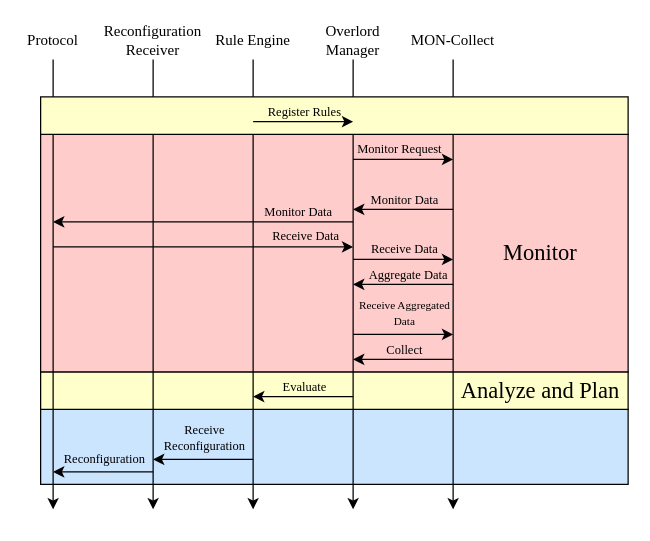
This 650x541 diagram has some shape labels left out. The shapes that lost their labels are listed below. From the top down, each one's centre as x and y in pixels, then its label:
At point 333,115: "Plan".
At point 333,446: "Execute".
